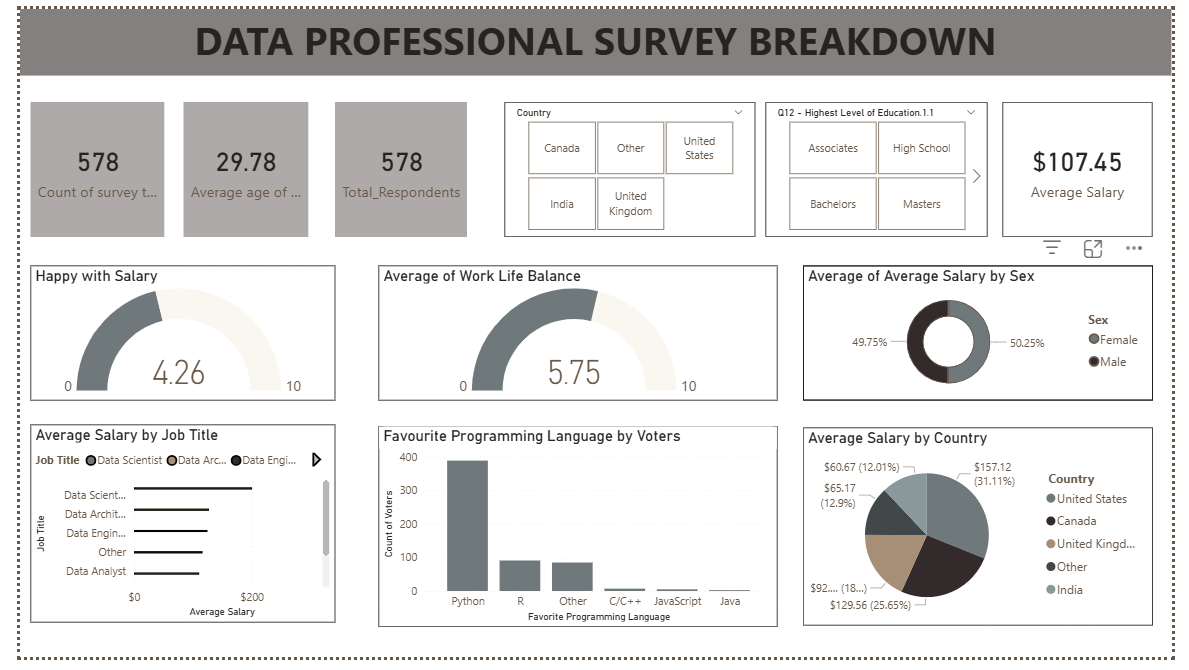

This screenshot's page, from the dashboard's own definition file:
{"tool":"powerbi","page":{"name":"Survey Overview","canvas":[1280,720],"ordinal":0},"visuals":[{"type":"textbox","box":[0,0,1279.4,73.7],"z":0},{"type":"card","fields":{"Values":["CountNonNull(Data Professional Survey.Unique ID)"]},"box":[11.7,103.3,148.3,150],"z":1000},{"type":"card","fields":{"Values":["Avg(Data Professional Survey.Q10 - Current Age)"]},"box":[181.7,103.3,138.3,150],"z":2000},{"type":"clusteredBarChart","title":"Average Salary by Job Title","fields":{"Category":["Data Professional Survey.Q1 - Which Title Best Fits your Current Role?.1"],"Y":["Avg(Data Professional Survey.Average Salary)"],"Series":["Data Professional Survey.Q1 - Which Title Best Fits your Current Role?.1"]},"box":[11.7,461.7,338.3,220],"z":3000},{"type":"clusteredColumnChart","title":"Favourite Programming Language by Voters","fields":{"Category":["Data Professional Survey.Q5 - Favorite Programming Language.1"],"Y":["CountNonNull(Data Professional Survey.Unique ID)"]},"box":[398.3,463.3,443.3,223.3],"z":4000},{"type":"pieChart","title":"Average Salary by Country","fields":{"Category":["Data Professional Survey.Q11 - Which Country do you live in?.1"],"Y":["Avg(Data Professional Survey.Average Salary)"]},"box":[870,465,388.3,220],"z":5000},{"type":"gauge","title":"Happy with Salary","fields":{"Y":["Avg(Data Professional Survey.Q6 - How Happy are you in your Current Position with the following? (Salary))"],"MinValue":["Min(Data Professional Survey.Q6 - How Happy are you in your Current Position with the following? (Salary))"],"MaxValue":["Max(Data Professional Survey.Q6 - How Happy are you in your Current Position with the following? (Salary))1"]},"box":[11.7,285,338.3,150],"z":6000},{"type":"gauge","title":"Average of Work Life Balance ","fields":{"Y":["Avg(Data Professional Survey.Q6 - How Happy are you in your Current Position with the following? (Work/Life Balance))"],"MinValue":["Min(Data Professional Survey.Q6 - How Happy are you in your Current Position with the following? (Work/Life Balance))"],"MaxValue":["Max(Data Professional Survey.Q6 - How Happy are you in your Current Position with the following? (Work/Life Balance))"]},"box":[398.3,285,443.3,150],"z":7000},{"type":"donutChart","fields":{"Category":["Data Professional Survey.Q9 - Male/Female?"],"Y":["Avg(Data Professional Survey.Average Salary)"]},"box":[870,285,388.3,150],"z":8000},{"type":"slicer","fields":{"Values":["Data Professional Survey.Q11 - Which Country do you live in?.1"]},"box":[538.3,103.3,278.3,150],"z":9000},{"type":"slicer","fields":{"Values":["Data Professional Survey.Q12 - Highest Level of Education.1.1"]},"box":[828.3,103.3,246.7,150],"z":10000},{"type":"card","fields":{"Values":["Avg(Data Professional Survey.Average Salary)"]},"box":[1091.7,103.3,166.7,150],"z":11000},{"type":"card","fields":{"Values":["Data Professional Survey.Total_Respondents"]},"box":[350,103.3,146.7,150],"z":11001}]}

Visuals, with their boxes in screenshot pixels (x1, y1, x2, y2), scaled from the page's 1280x720 canvas onto the 1189x670 screenshot:
textbox: [0,0,1188,69]
card - CountNonNull(Data Professional Survey.Unique ID): [11,96,149,236]
card - Avg(Data Professional Survey.Q10 - Current Age): [169,96,297,236]
"Average Salary by Job Title" clusteredBarChart: [11,430,325,634]
"Favourite Programming Language by Voters" clusteredColumnChart: [370,431,782,639]
"Average Salary by Country" pieChart: [808,433,1169,637]
"Happy with Salary" gauge: [11,265,325,405]
"Average of Work Life Balance " gauge: [370,265,782,405]
donutChart - Data Professional Survey.Q9 - Male/Female? x Avg(Data Professional Survey.Average Salary): [808,265,1169,405]
slicer - Data Professional Survey.Q11 - Which Country do you live in?.1: [500,96,759,236]
slicer - Data Professional Survey.Q12 - Highest Level of Education.1.1: [769,96,999,236]
card - Avg(Data Professional Survey.Average Salary): [1014,96,1169,236]
card - Data Professional Survey.Total_Respondents: [325,96,461,236]
